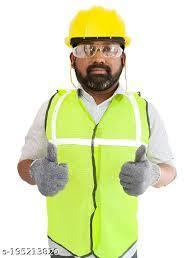Hard_hat: (60, 6, 140, 47)
Humans: (21, 11, 177, 258)
Vest: (34, 75, 146, 258)
Visor: (69, 38, 125, 58)
